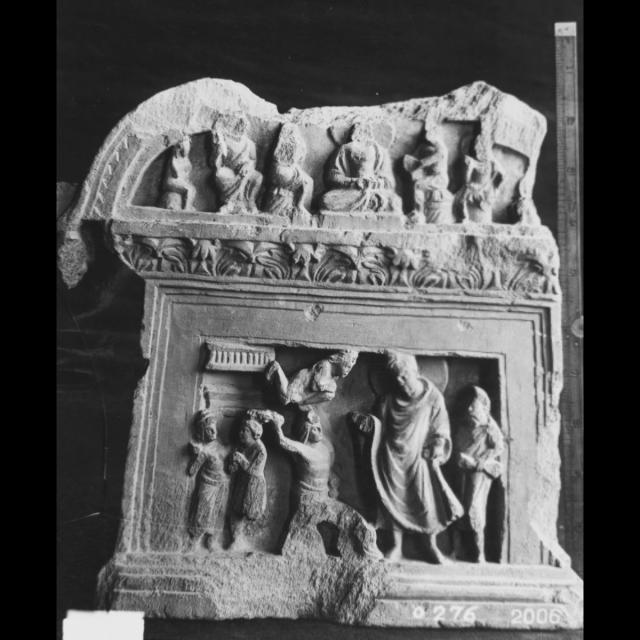buddha-sitting: (320, 121, 401, 216)
buddha-standing: (349, 350, 464, 558)
